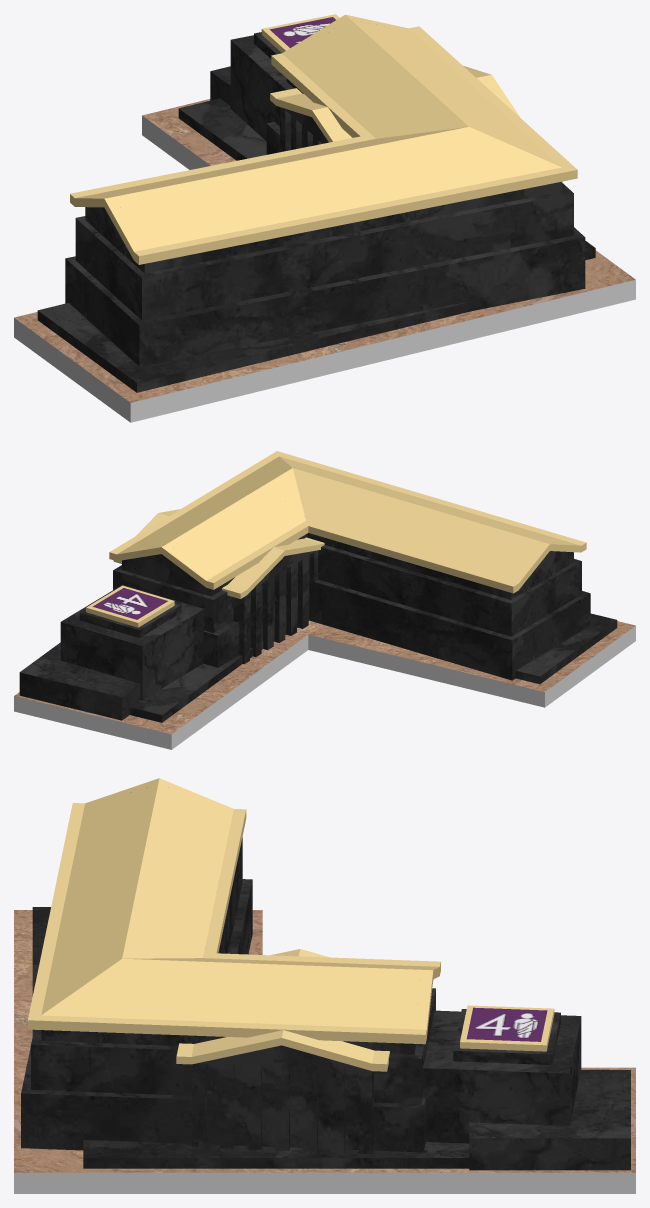
The model's file is buildingInsulaL.glb.
3 views of the same model, one above another, from view 1: azimuth 30°, elevation 25°; view 2: azimuth 150°, elevation 25°; view 3: azimuth 270°, elevation 25° (orthographic). The views are drawn at different scales.
Parts seen in each view (by area): view 1: InsulaL; view 2: InsulaL; view 3: InsulaL.
Part boxes in pixels (x1=…): InsulaL: x1=14, y1=14, x2=635, y2=422; InsulaL: x1=14, y1=451, x2=635, y2=749; InsulaL: x1=14, y1=778, x2=635, y2=1193.
Bounding box in the file's own units: 5 × 1.55 × 5.
Materials: 5 (3 with a texture image).
